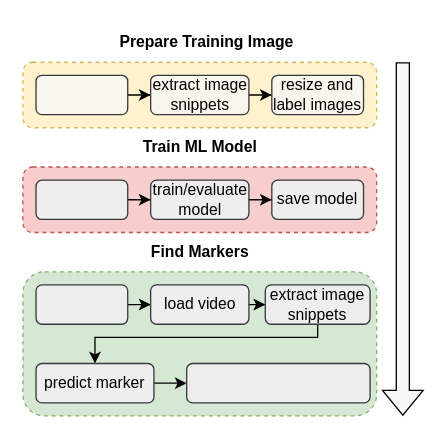
Some shapes in this 447 by 439 pixel diagram are drawn without their labels. The centre of each missing label's shape, as x and y in pixels:
"find boundaries" goes at [81,94].
"highlight marker in video" goes at [277,382].
"load model" goes at [81,304].
"split train/test" goes at [81,199].
